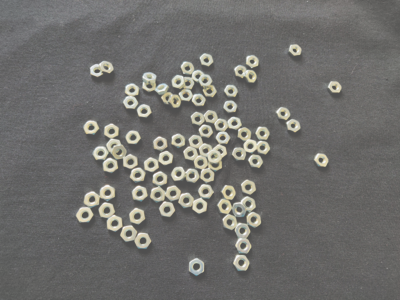nut: (189, 258, 205, 277), (135, 233, 152, 250), (121, 226, 138, 243), (233, 256, 251, 272), (98, 203, 116, 219), (76, 208, 95, 223), (107, 216, 123, 233), (84, 192, 100, 209), (129, 209, 146, 225), (159, 202, 176, 218), (179, 193, 195, 210), (232, 202, 248, 218), (217, 199, 233, 215), (132, 186, 148, 202), (103, 158, 119, 174), (241, 196, 256, 213), (151, 187, 166, 204), (236, 239, 252, 254), (235, 224, 251, 239), (223, 215, 238, 231), (100, 186, 115, 202), (193, 199, 208, 215), (241, 180, 257, 195), (166, 186, 181, 202), (130, 168, 146, 183), (123, 154, 138, 170), (111, 145, 127, 160), (83, 121, 100, 135), (125, 131, 142, 145), (247, 213, 262, 228), (221, 186, 236, 201), (153, 172, 168, 187), (144, 158, 159, 173), (159, 151, 174, 166), (153, 137, 168, 152), (104, 124, 119, 139), (237, 127, 252, 142), (198, 185, 214, 199), (255, 127, 271, 141), (249, 155, 264, 169), (201, 169, 215, 184), (172, 167, 187, 181), (184, 147, 198, 162), (189, 135, 204, 149), (172, 134, 186, 149), (276, 107, 291, 121), (191, 112, 206, 126), (137, 104, 152, 118), (99, 61, 114, 75), (172, 75, 186, 90), (314, 154, 330, 167), (93, 147, 109, 160), (123, 97, 139, 110), (198, 75, 214, 88), (186, 169, 200, 183), (107, 139, 121, 153), (209, 158, 223, 172), (194, 156, 208, 170), (208, 151, 222, 165), (213, 145, 227, 159), (199, 144, 213, 158), (257, 141, 271, 155), (244, 140, 258, 154), (228, 117, 242, 131), (232, 148, 247, 161), (286, 120, 301, 133), (216, 132, 231, 145), (199, 125, 214, 138), (204, 111, 219, 124), (224, 85, 239, 98), (125, 84, 140, 97), (203, 85, 218, 98), (215, 119, 229, 132), (224, 101, 238, 114), (90, 65, 104, 78), (192, 94, 206, 107), (179, 89, 193, 102), (200, 54, 214, 67), (181, 62, 195, 75), (244, 70, 257, 83), (235, 65, 248, 78), (168, 95, 181, 108), (162, 92, 175, 105), (328, 82, 342, 94), (155, 84, 170, 95), (246, 56, 259, 68), (183, 77, 195, 90), (192, 71, 205, 83), (143, 82, 157, 93), (143, 73, 157, 84), (289, 45, 302, 56)
